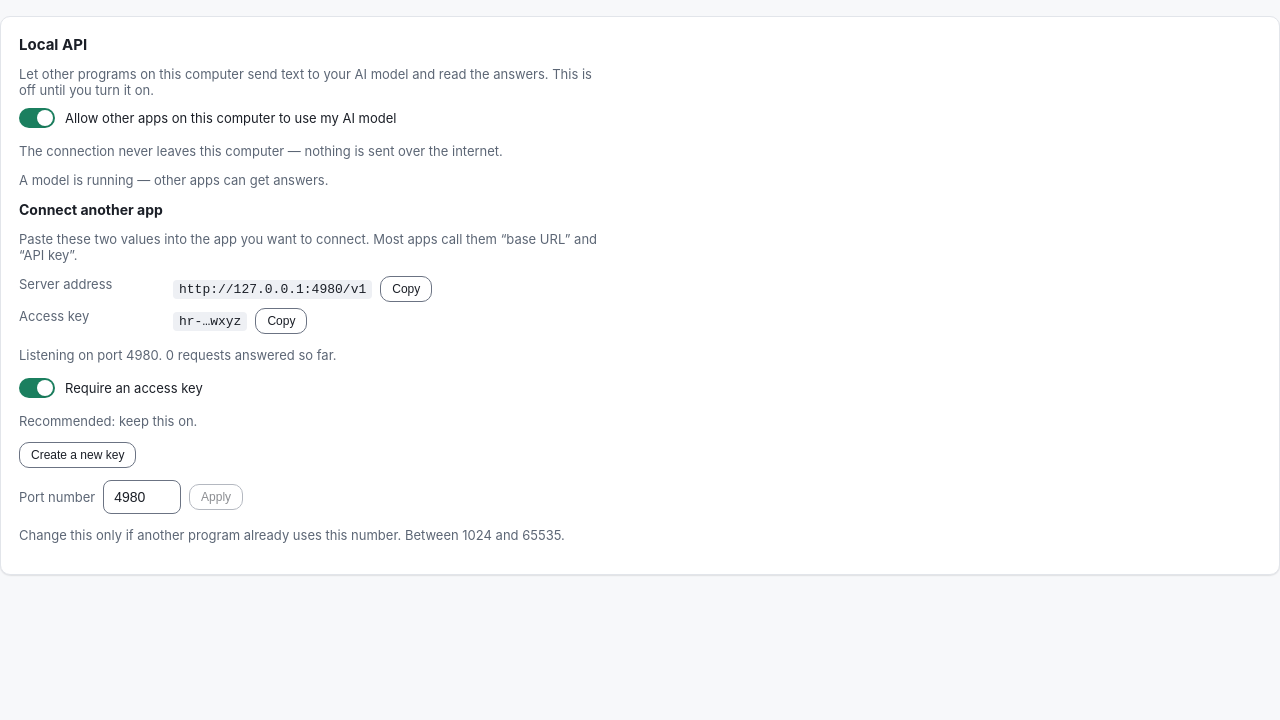
Test case: LocalApiCard — key requirement + rotation › regenerating states the consequence, rotates main-side, and shows the new mask
Click the button "Create a new key": (78,455) [19,442,136,468]
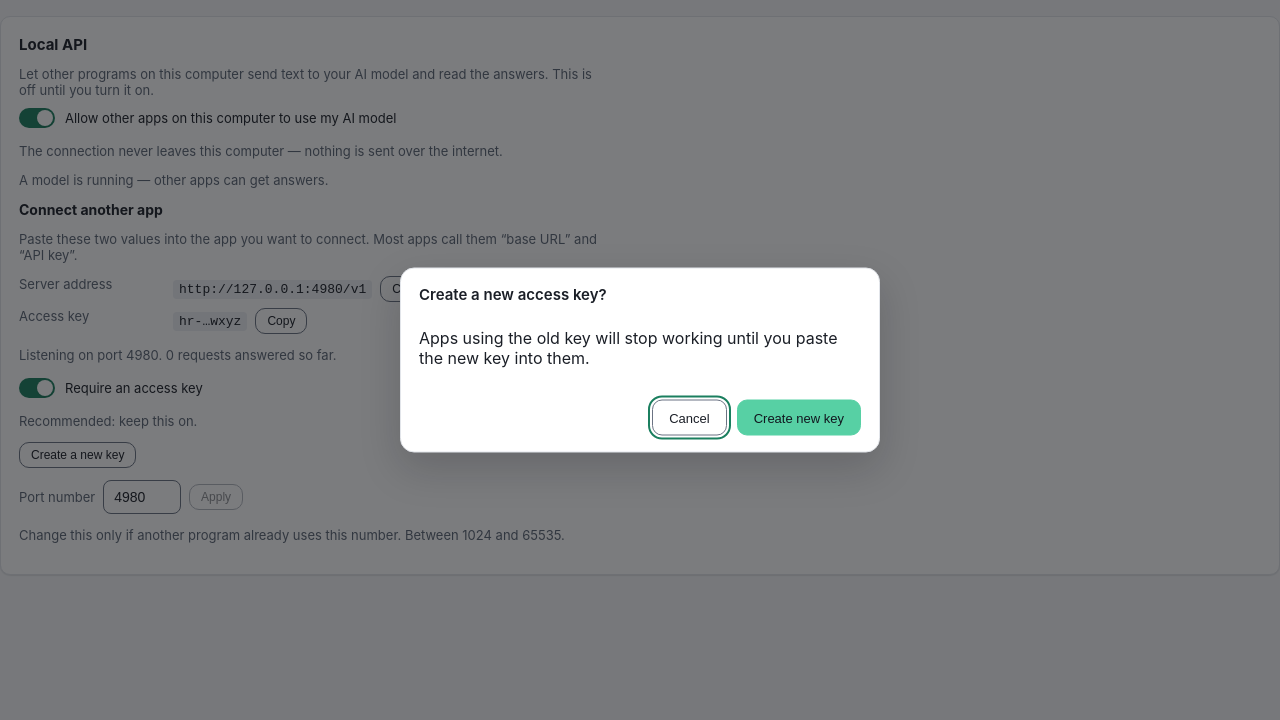
Expected: the text "Apps using the old key will stop working until you paste the new key into them." is shown, [419,328,855,368]
Click the button "Create new key": (799,418) [737,400,861,436]
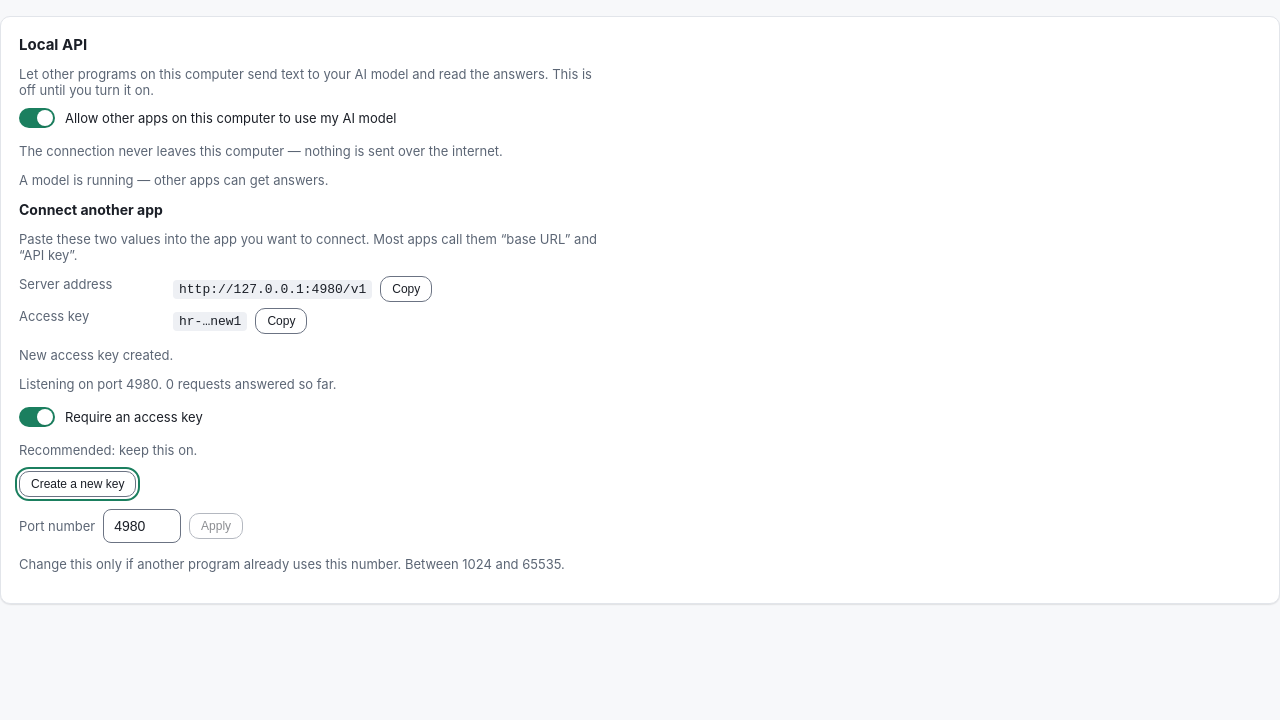
Expected: the text "hr-…new1" is shown, [173,312,247,330]
